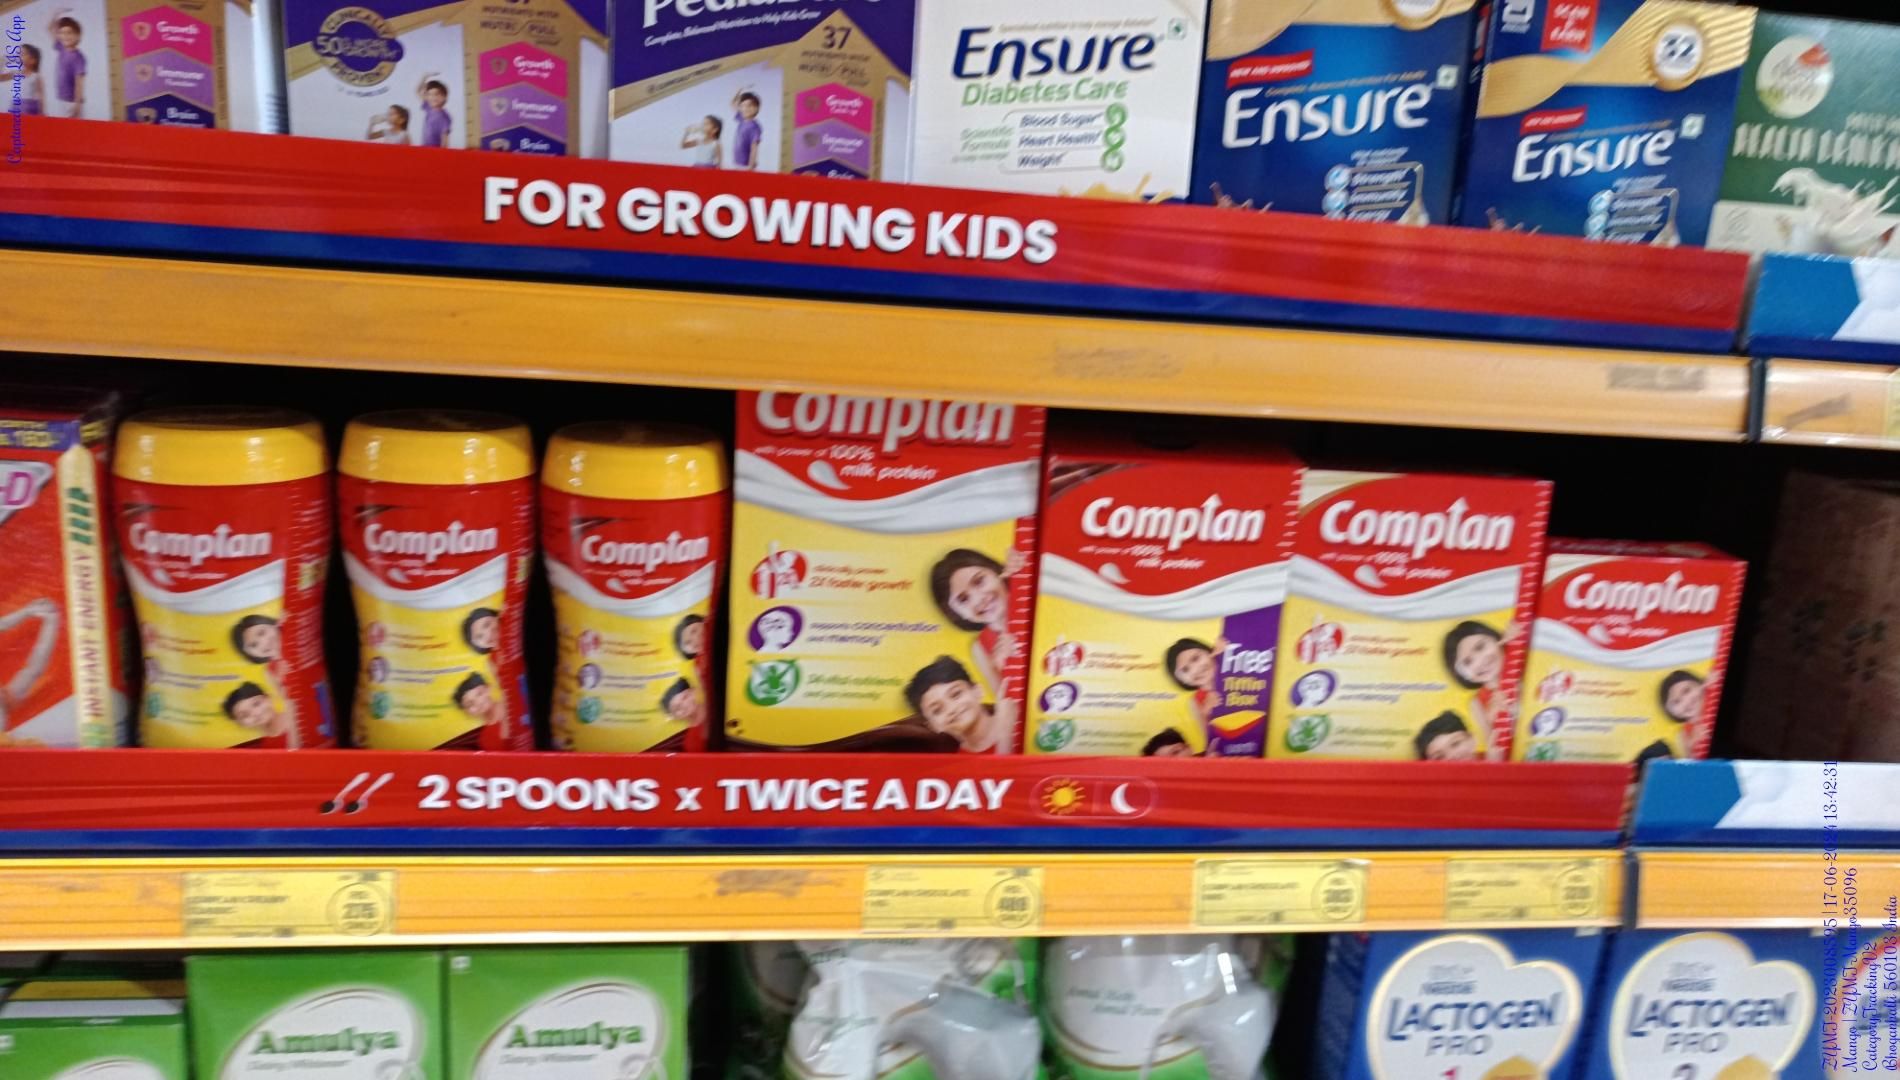COMPLAN_CHOCOLATE_1_KG_PACK: (732, 390, 1024, 755)
COMPLAN_CHOCOLATE_200_GMS_PACK: (1533, 554, 1712, 757)
COMPLAN_CHOCOLATE_500_GMS_JAR: (116, 427, 329, 751), (348, 430, 531, 763), (544, 442, 720, 745)
COMPLAN_CHOCOLATE_500_GMS_PACK: (1043, 458, 1278, 760), (1289, 464, 1519, 759)
